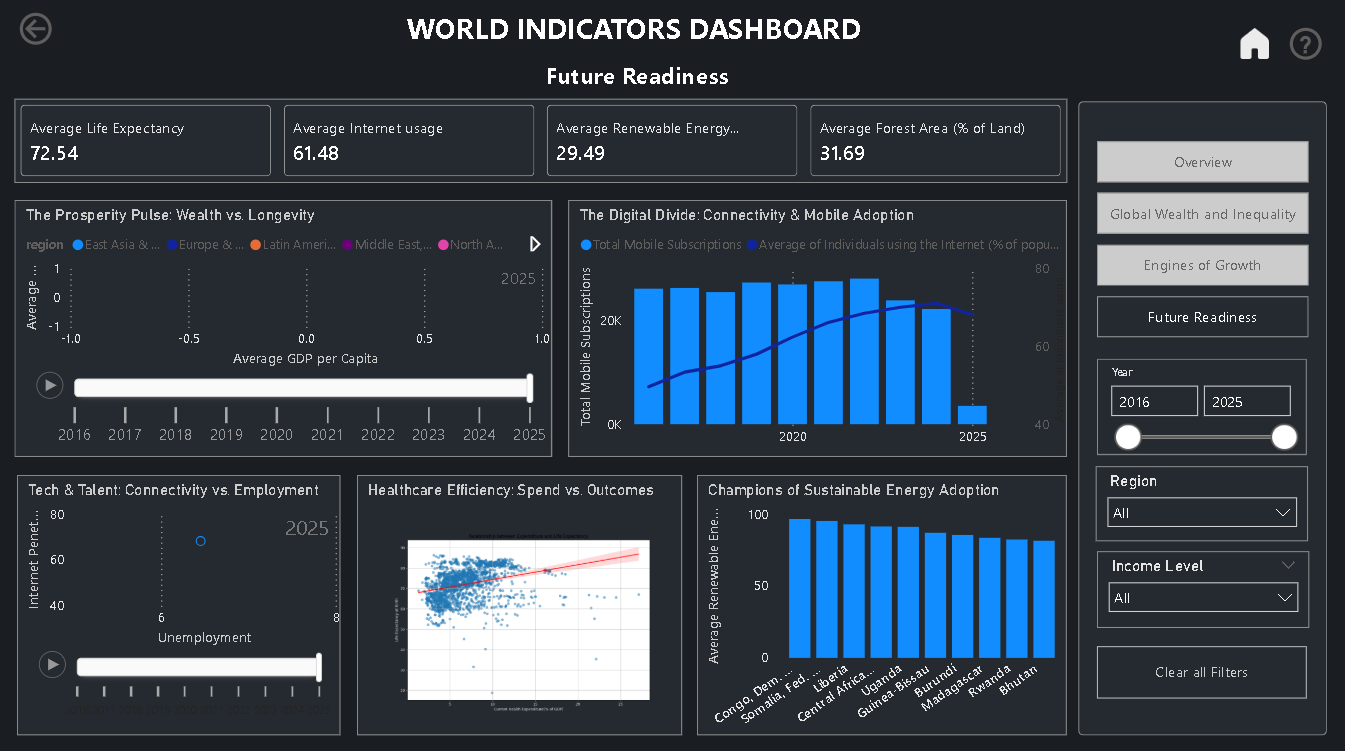

The dashboard page shown, as its layout file describes it:
{"tool":"powerbi","page":{"name":"Future Readiness","canvas":[1280,720],"ordinal":3},"visuals":[{"type":"shape","box":[1027.5,101.2,236.2,602.5],"z":0},{"type":"textbox","box":[385,8.8,446.2,47.5],"z":1000},{"type":"textbox","box":[516.2,56.2,186.2,45],"z":2000},{"type":"cardVisual","fields":{"Data":["Avg(Append.Life expectancy at birth, total (years))","Avg(Append.Individuals using the Internet (% of population))","Avg(Append.Renewable energy consumption (% of total final energy consumption))","Avg(Append.Forest area (% of land area))"]},"box":[16.2,98.8,1000,80],"z":3000},{"type":"scatterChart","title":"The Prosperity Pulse: Wealth vs. Longevity","fields":{"Category":["Append.country_value"],"X":["Avg(Append.GDP per capita (current US$))"],"Y":["Avg(Append.Life expectancy at birth, total (years))"],"Series":["Append.region"],"Size":["Sum(Append.Labor force, total)"],"Play":["Append.year"]},"box":[16.2,195,510,243.8],"z":4000},{"type":"lineClusteredColumnComboChart","title":"The Digital Divide: Connectivity & Mobile Adoption","fields":{"Category":["Append.year"],"Y":["Sum(Append.Mobile cellular subscriptions (per 100 people))"],"Y2":["Avg(Append.Individuals using the Internet (% of population))"]},"box":[542.5,195,473.8,243.8],"z":5000},{"type":"pythonVisual","title":"Healthcare Efficiency: Spend vs. Outcomes","fields":{"Values":["health.country_value","health.indicator_name","health.value","health.year"]},"box":[342.5,456.2,308.8,247.5],"z":6000},{"type":"scatterChart","title":"Tech & Talent: Connectivity vs. Employment","fields":{"Category":["scatter plot.year"],"Y":["MeasureTable.Internet Penetration"],"X":["MeasureTable.Umemployment"],"Play":["scatter plot.year"],"Size":["MeasureTable.GDP per Capita"]},"box":[18.8,456.2,307.5,247.5],"z":7000},{"type":"clusteredColumnChart","title":"Champions of Sustainable Energy Adoption","fields":{"Category":["Append.country_value"],"Y":["Avg(Append.Renewable energy consumption (% of total final energy consumption))"]},"box":[665,456.2,351.2,247.5],"z":8000},{"type":"pageNavigator","box":[1045,138.8,201.2,188.8],"z":9000},{"type":"actionButton","box":[16.6,11.9,40.4,40.4],"z":10000},{"type":"actionButton","box":[1223,26.1,40.4,40.4],"z":11000},{"type":"image","box":[1176.7,28.5,35.6,35.6],"z":12000},{"type":"slicer","fields":{"Values":["Append.region"]},"box":[1043.7,447.6,201.9,71.2],"z":13000},{"type":"slicer","fields":{"Values":["labour_market.year","Append.year"]},"box":[1044.9,345.5,199.5,91.4],"z":14000},{"type":"slicer","fields":{"Values":["Append.incomeLevel"]},"box":[1044.9,528.4,201.9,72.4],"z":15000},{"type":"actionButton","box":[1044.9,618.6,199.5,49.9],"z":16000}]}

Visuals, with their boxes in screenshot pixels (x1, y1, x2, y2), scaled from the page's 1280x720 canvas onto the 1345x751 screenshot:
shape: (1080,106,1328,734)
textbox: (405,9,873,59)
textbox: (542,59,738,106)
cardVisual - Avg(Append.Life expectancy at birth, total (years)) x Avg(Append.Individuals using the Internet (% of population)): (17,103,1068,186)
"The Prosperity Pulse: Wealth vs. Longevity" scatterChart: (17,203,553,458)
"The Digital Divide: Connectivity & Mobile Adoption" lineClusteredColumnComboChart: (570,203,1068,458)
"Healthcare Efficiency: Spend vs. Outcomes" pythonVisual: (360,476,684,734)
"Tech & Talent: Connectivity vs. Employment" scatterChart: (20,476,343,734)
"Champions of Sustainable Energy Adoption" clusteredColumnChart: (699,476,1068,734)
pageNavigator: (1098,145,1309,342)
actionButton: (17,12,60,55)
actionButton: (1285,27,1328,69)
image: (1236,30,1274,67)
slicer - Append.region: (1097,467,1309,541)
slicer - labour_market.year x Append.year: (1098,360,1308,456)
slicer - Append.incomeLevel: (1098,551,1310,627)
actionButton: (1098,645,1308,697)
